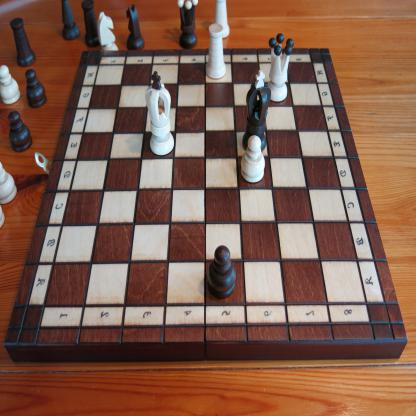black-bishop: (61, 0, 82, 42)
black-king: (242, 69, 272, 152)
black-knight: (126, 3, 145, 51)
black-pawn: (207, 244, 236, 300), (7, 110, 33, 153), (24, 68, 48, 110)
black-queen: (177, 0, 199, 49)
black-rook: (9, 17, 36, 68), (80, 0, 100, 49)
white-king: (145, 70, 174, 156)
white-knight: (97, 11, 119, 52)
white-pawn: (240, 135, 265, 184), (1, 64, 21, 107), (0, 162, 19, 205)
white-queen: (268, 33, 295, 103)
white-rook: (205, 22, 227, 80), (213, 0, 230, 39)
